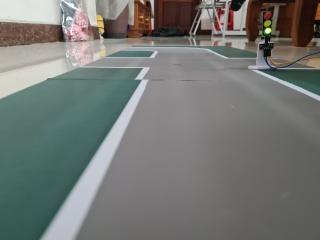green: (255, 6, 277, 53)
